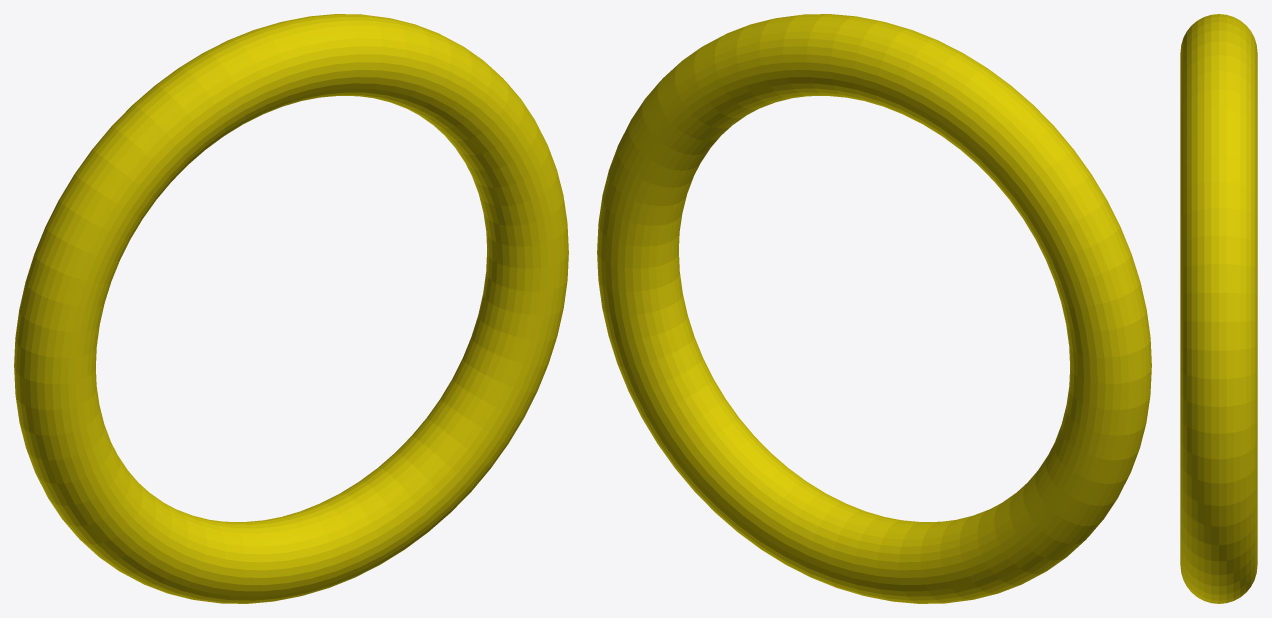
File: ring.glb
3 renders of one model, left to right at view 1: azimuth 30°, elevation 25°; view 2: azimuth 150°, elevation 25°; view 3: azimuth 270°, elevation 25°, orthographic. The views are drawn at different scales.
Visible parts, largest first — view 1: world; view 2: world; view 3: world.
Boxes of the visible parts, x1=… form: world: x1=14, y1=14, x2=568, y2=603; world: x1=597, y1=14, x2=1151, y2=603; world: x1=1180, y1=14, x2=1257, y2=603.
Bounding box in the file's own units: 23 × 23 × 3.
